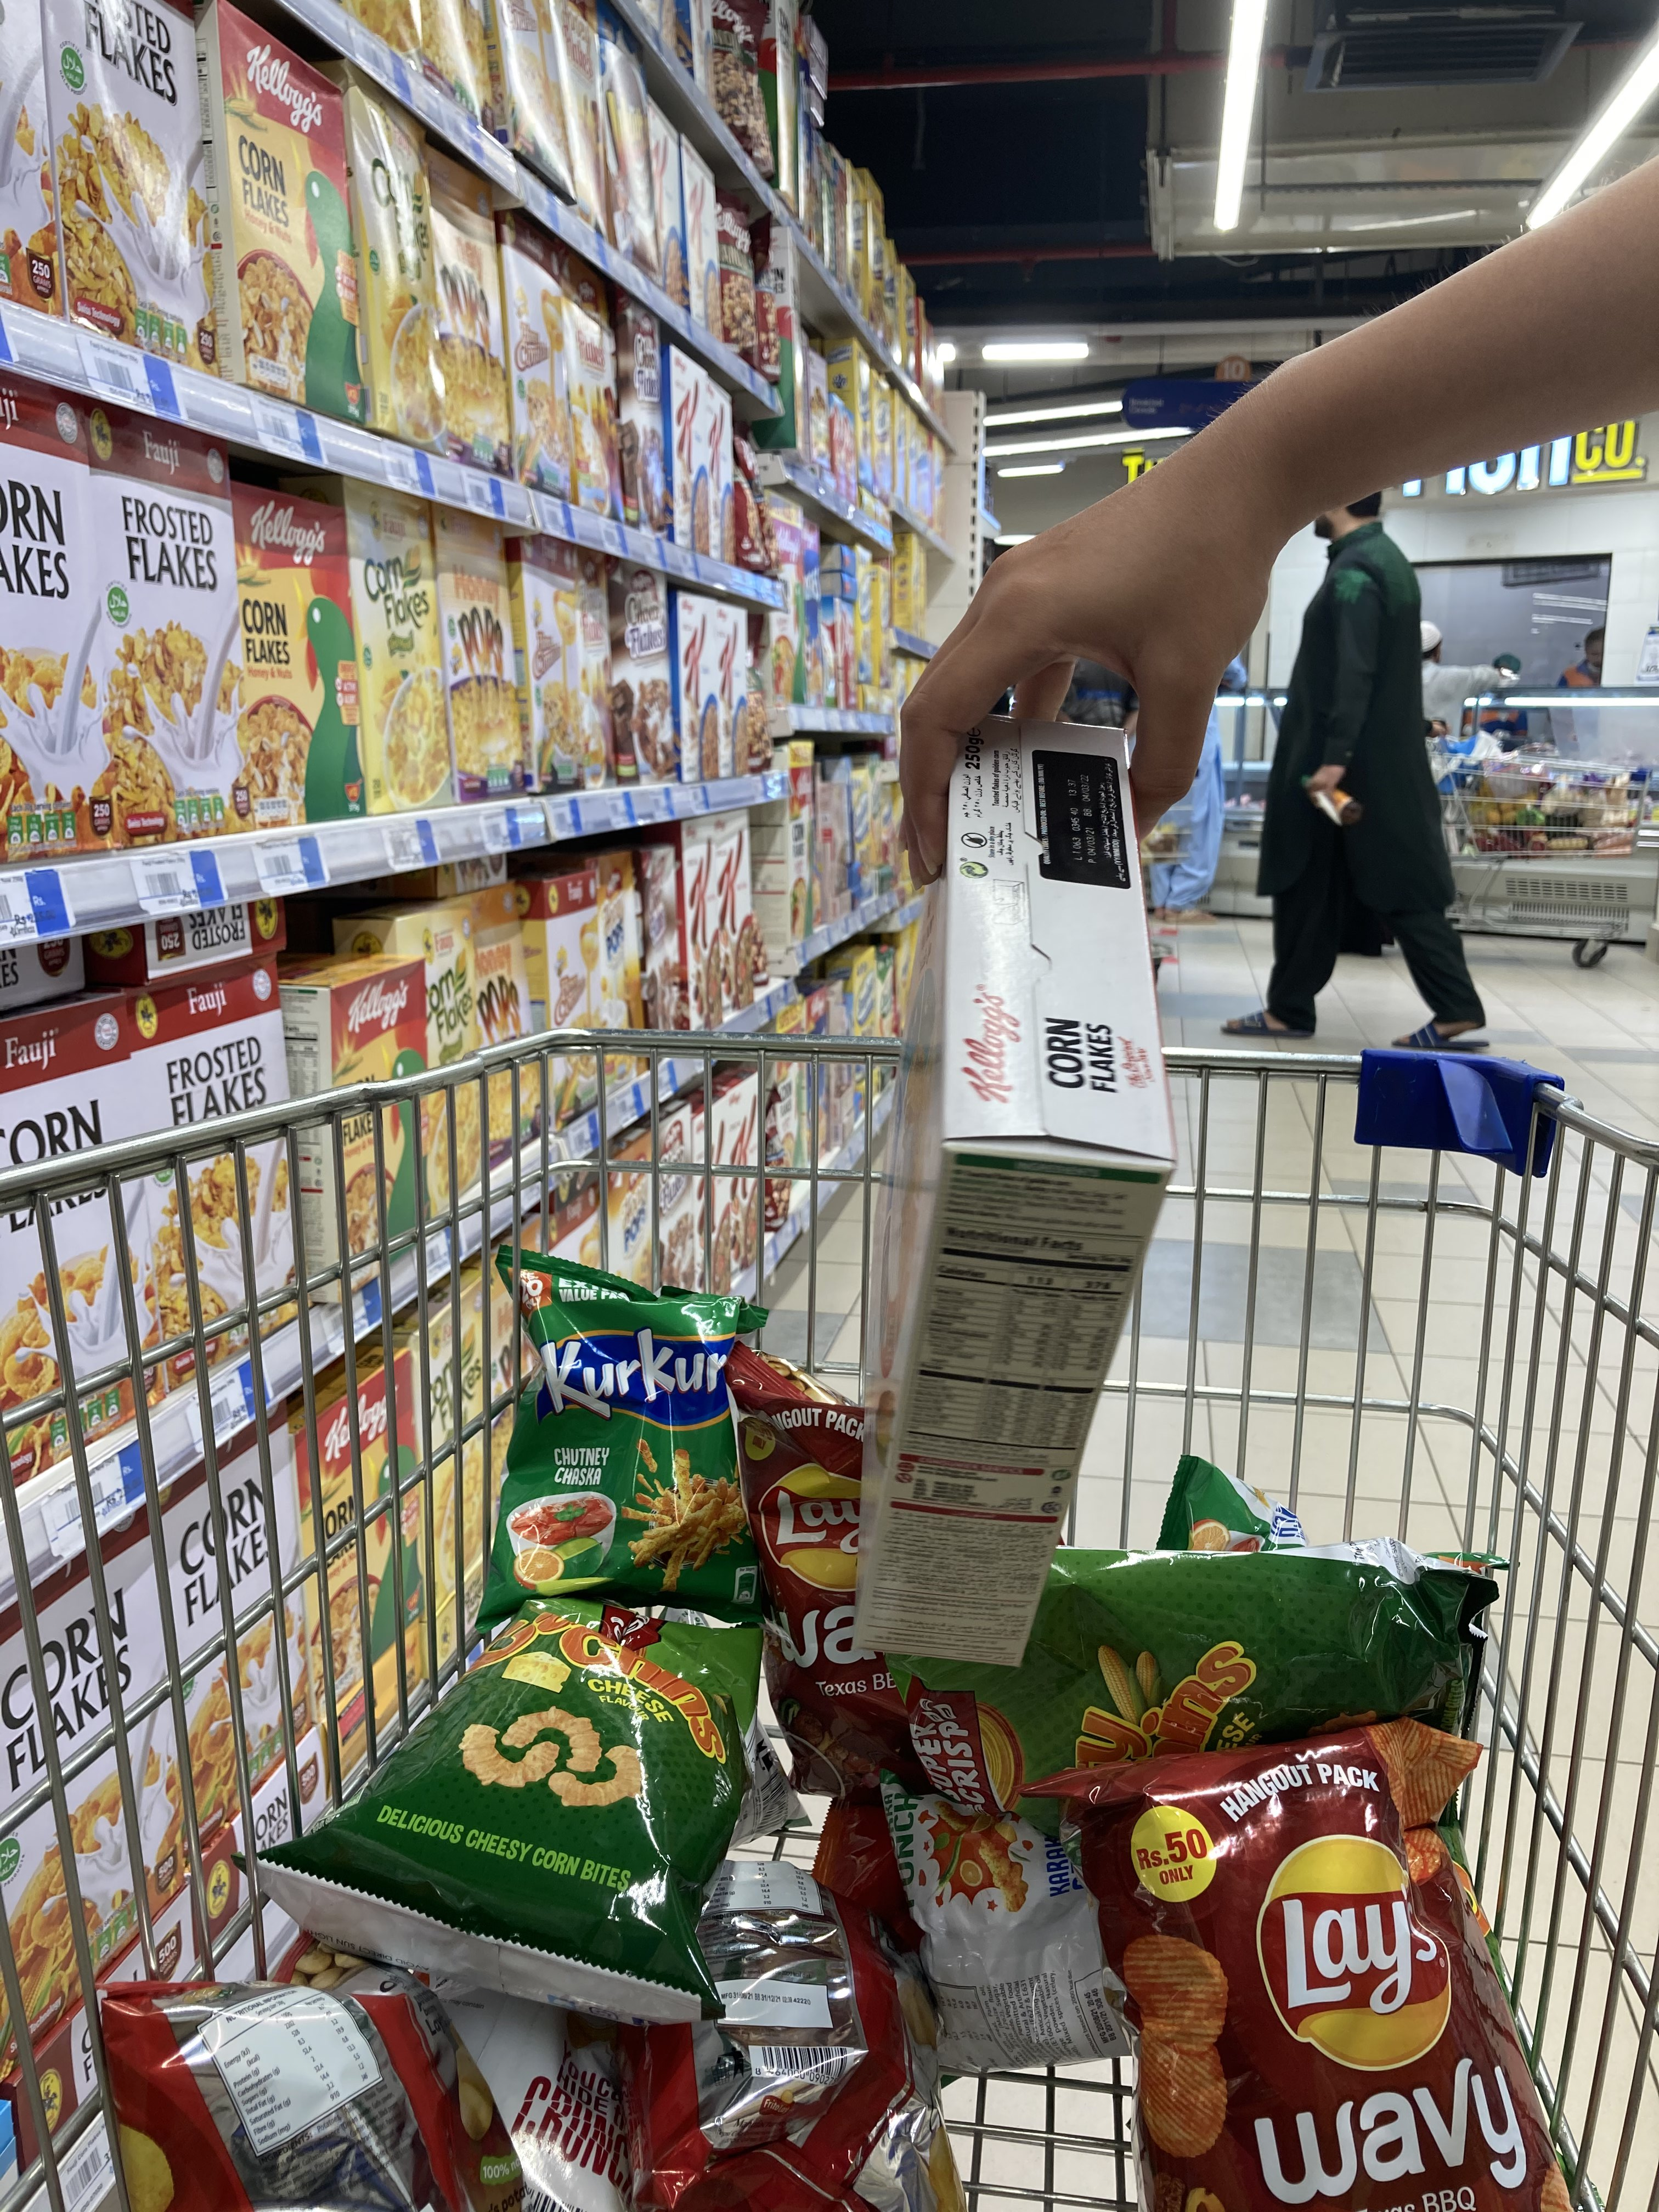Kellogg's Corn Flakes: (852, 756, 1180, 1662)
